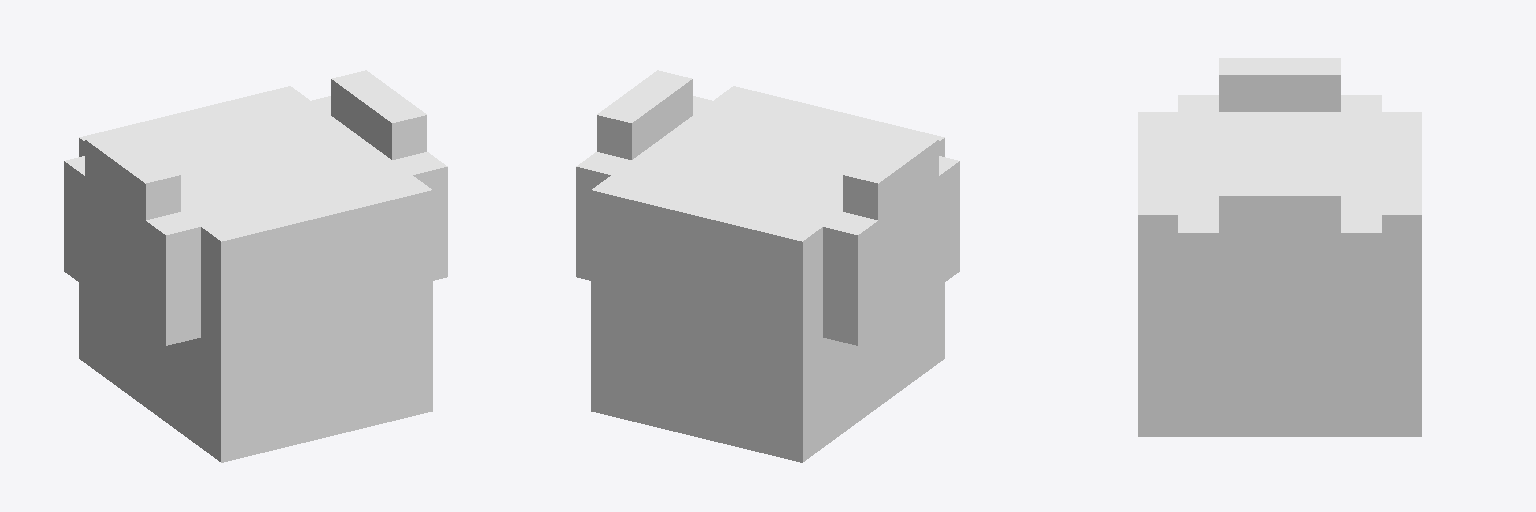
The model's file is bee.obj.
3 views of the same model, side by side, from view 1: azimuth 30°, elevation 25°; view 2: azimuth 150°, elevation 25°; view 3: azimuth 270°, elevation 25° (orthographic).
Visible parts, largest first — view 1: object 1; view 2: object 1; view 3: object 1.
Boxes of the visible parts, x1,y1,x2,y2 form: object 1: [64, 70, 447, 462]; object 1: [576, 70, 959, 462]; object 1: [1138, 58, 1421, 436].
Size of the model in its own units: 0.8 by 0.7 by 0.7.